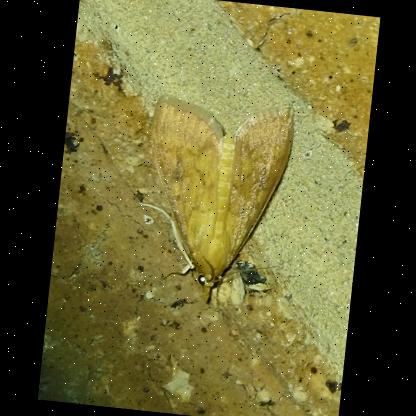Asian Corn Borer Moth: (127, 88, 299, 314)
